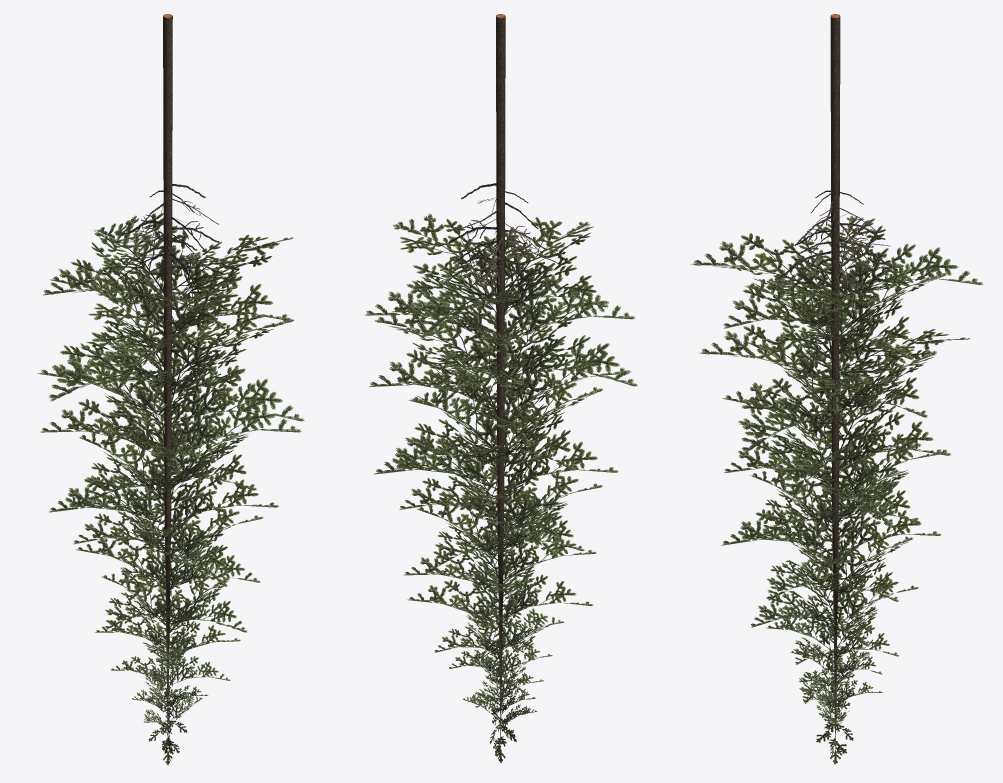
Rendered from Top.fbx.
3 views of the same model, side by side, from view 1: azimuth 30°, elevation 25°; view 2: azimuth 150°, elevation 25°; view 3: azimuth 270°, elevation 25° (orthographic).
Visible parts, largest first — view 1: Top; view 2: Top; view 3: Top.
Part boxes in pixels (x1,y1,x2,y2): Top: (37,14,304,765); Top: (364,14,637,762); Top: (691,14,983,764).
Bounding box in the file's own units: 23.3 × 62.06 × 22.81.
